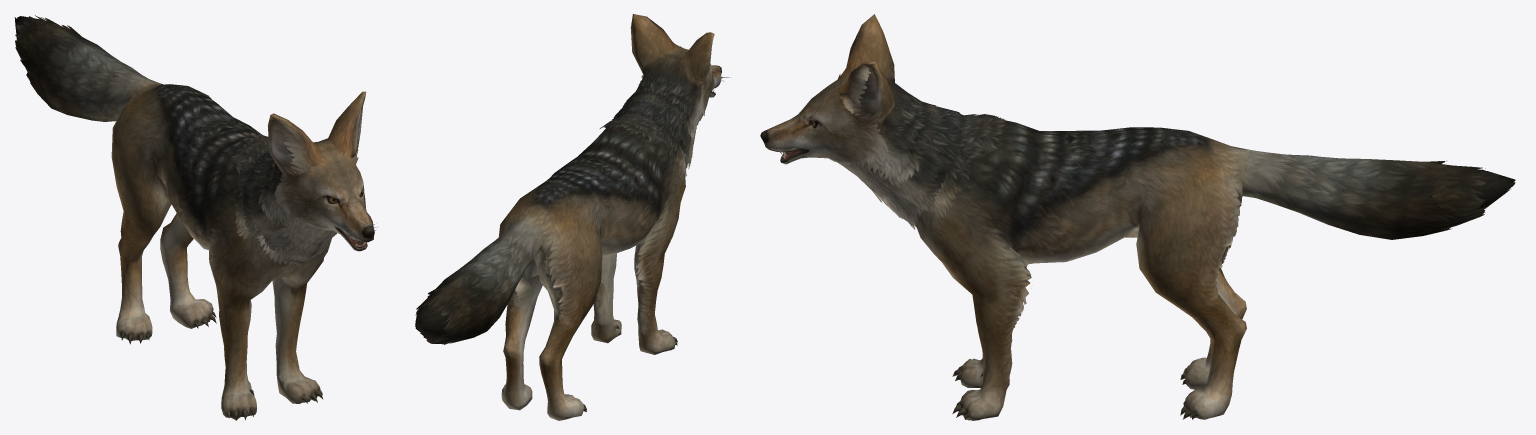
Rendered from Chiyabo'ri.fbx.
3 views of the same model, side by side, from view 1: azimuth 30°, elevation 25°; view 2: azimuth 150°, elevation 25°; view 3: azimuth 270°, elevation 25° (orthographic). The views are drawn at different scales.
Visible parts, largest first — view 1: jackal; view 2: jackal; view 3: jackal.
Boxes of the visible parts, <box> form: jackal: <box>14,15,377,420</box>; jackal: <box>415,14,728,420</box>; jackal: <box>760,14,1515,420</box>.
Bounding box in the file's own units: 2001 × 6196 × 11808.
1 material, 1 textured.
